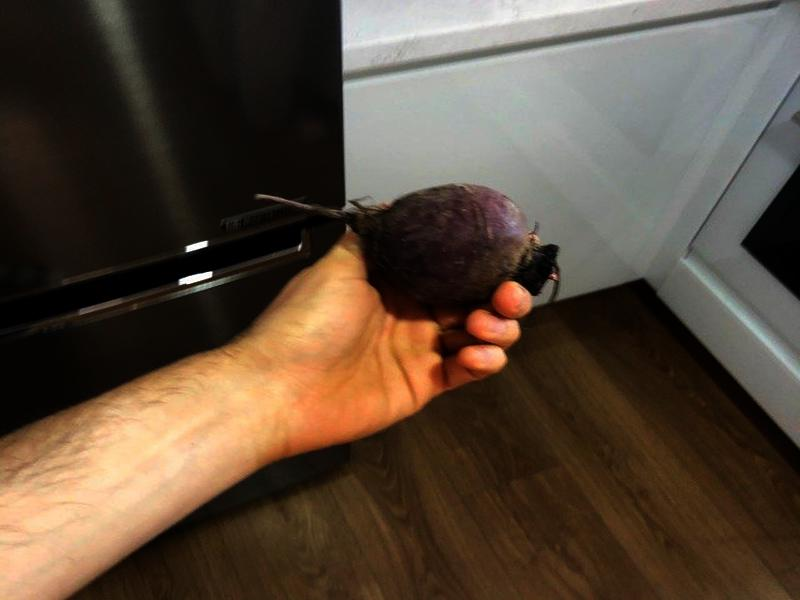Beet: (255, 184, 561, 305)
